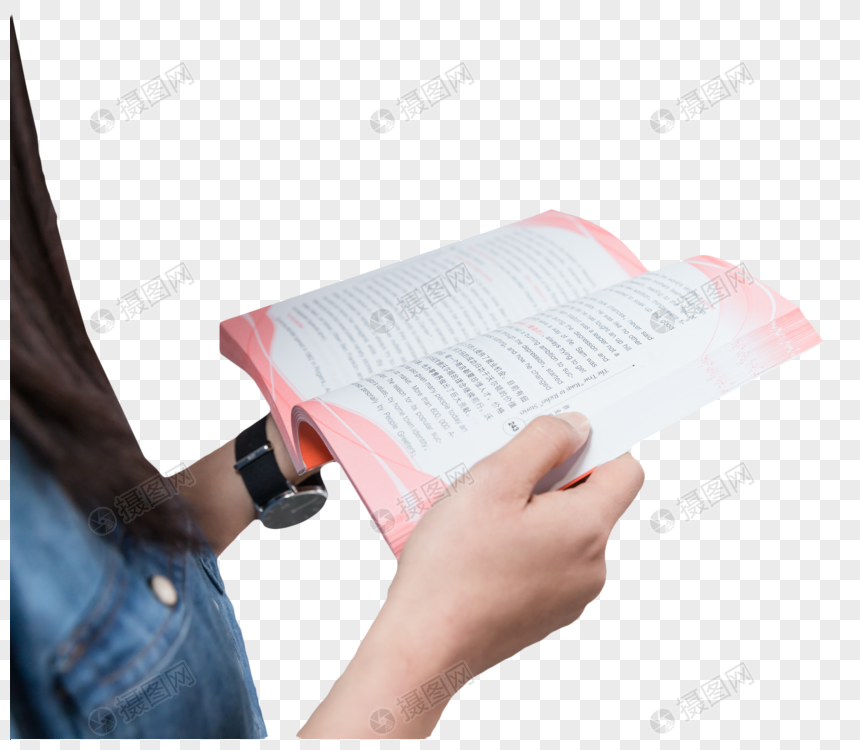book: (155, 199, 826, 678)
